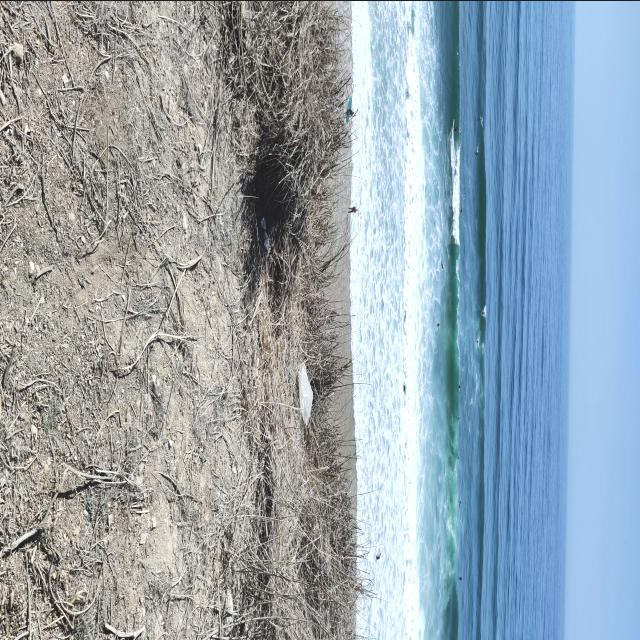Plastic film: (298, 361, 313, 425)
Unlabeled litter: (261, 216, 270, 249)
